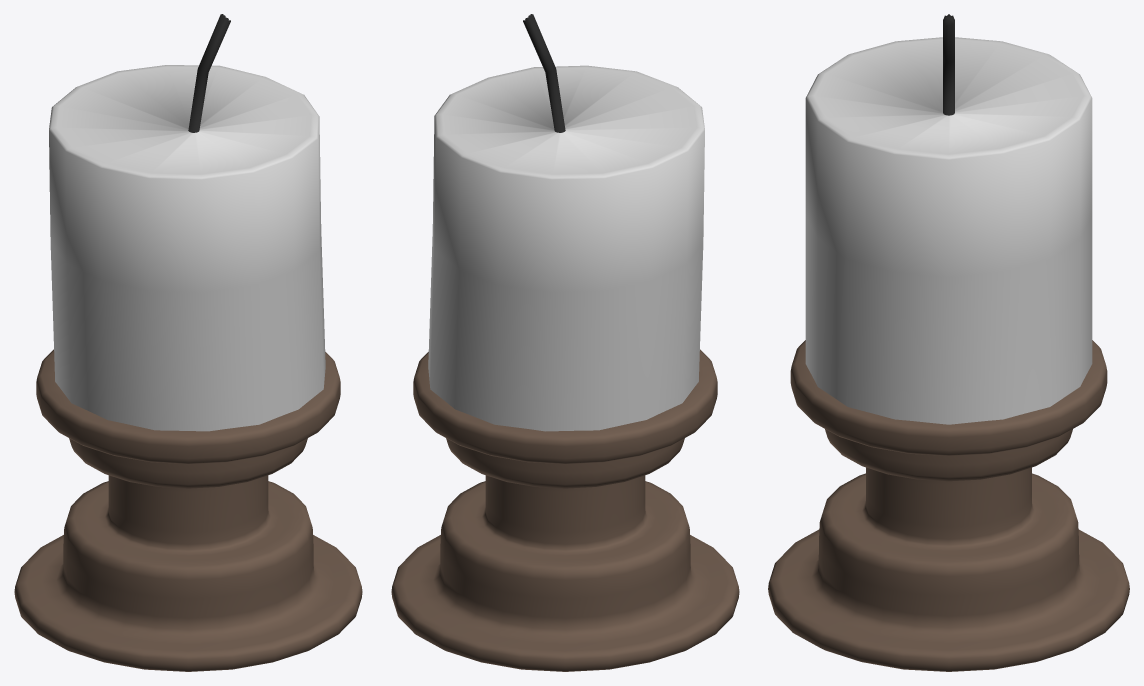
Rendered from MiddleCandle.fbx.
3 views of the same model, side by side, from view 1: azimuth 30°, elevation 25°; view 2: azimuth 150°, elevation 25°; view 3: azimuth 270°, elevation 25° (orthographic). The views are drawn at different scales.
Visible parts, largest first — view 1: Candle, CandleHolder; view 2: Candle, CandleHolder; view 3: Candle, CandleHolder.
Boxes of the visible parts, bbox=[...] form: Candle: bbox=[49, 14, 325, 431]; CandleHolder: bbox=[14, 349, 362, 671]; Candle: bbox=[428, 14, 704, 431]; CandleHolder: bbox=[391, 349, 739, 671]; Candle: bbox=[805, 14, 1092, 424]; CandleHolder: bbox=[768, 340, 1129, 671].
Bounding box in the file's own units: 122 × 224 × 122.
